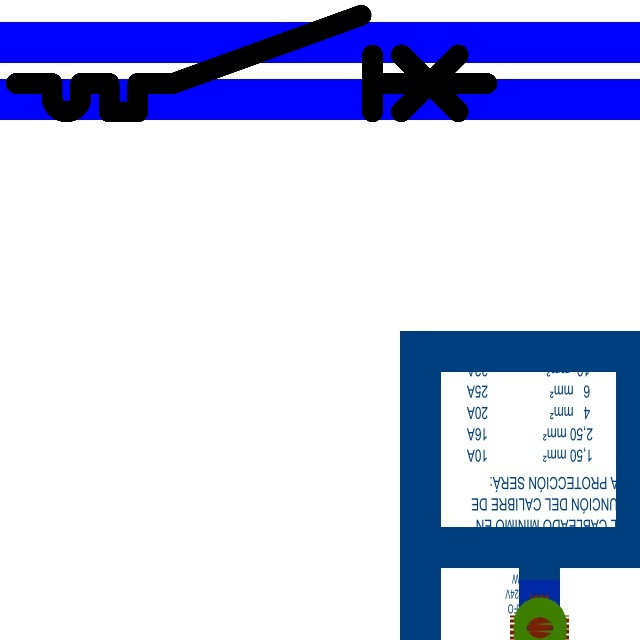interruptor_termomagnetico: (4, 3, 499, 124)
